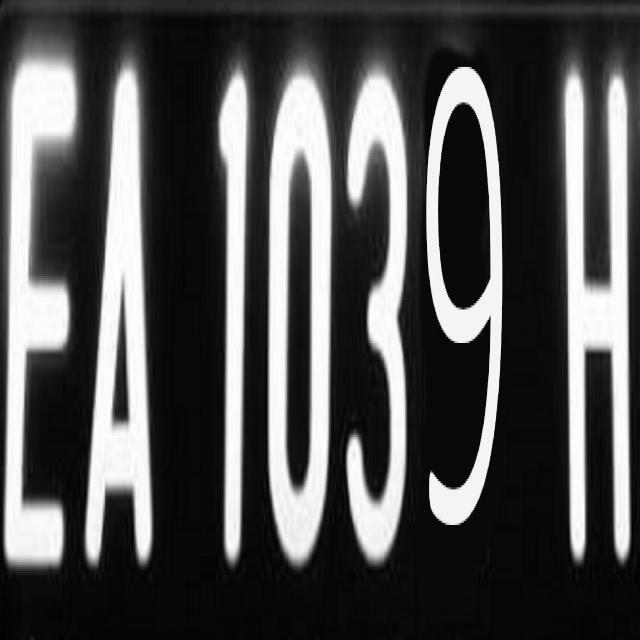0: (268, 60, 332, 578)
1: (206, 60, 258, 586)
3: (341, 60, 418, 580)
9: (423, 55, 503, 542)
A: (74, 58, 162, 564)
E: (0, 58, 81, 564)
H: (548, 60, 640, 566)
